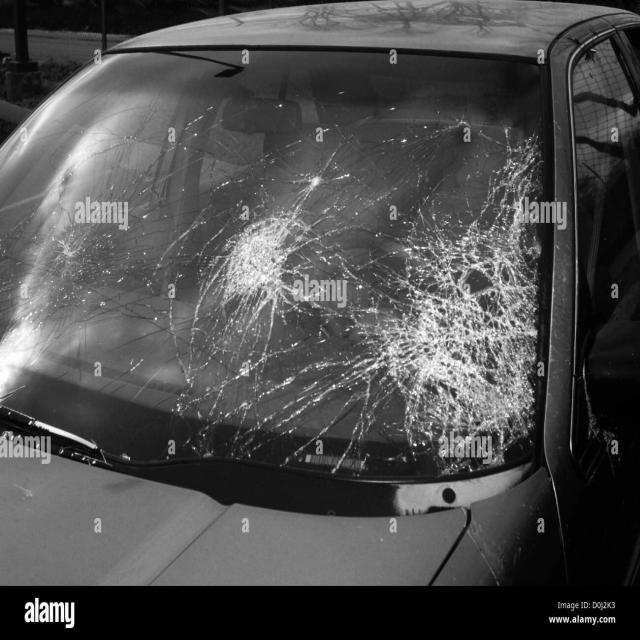crack: (0, 81, 558, 489)
